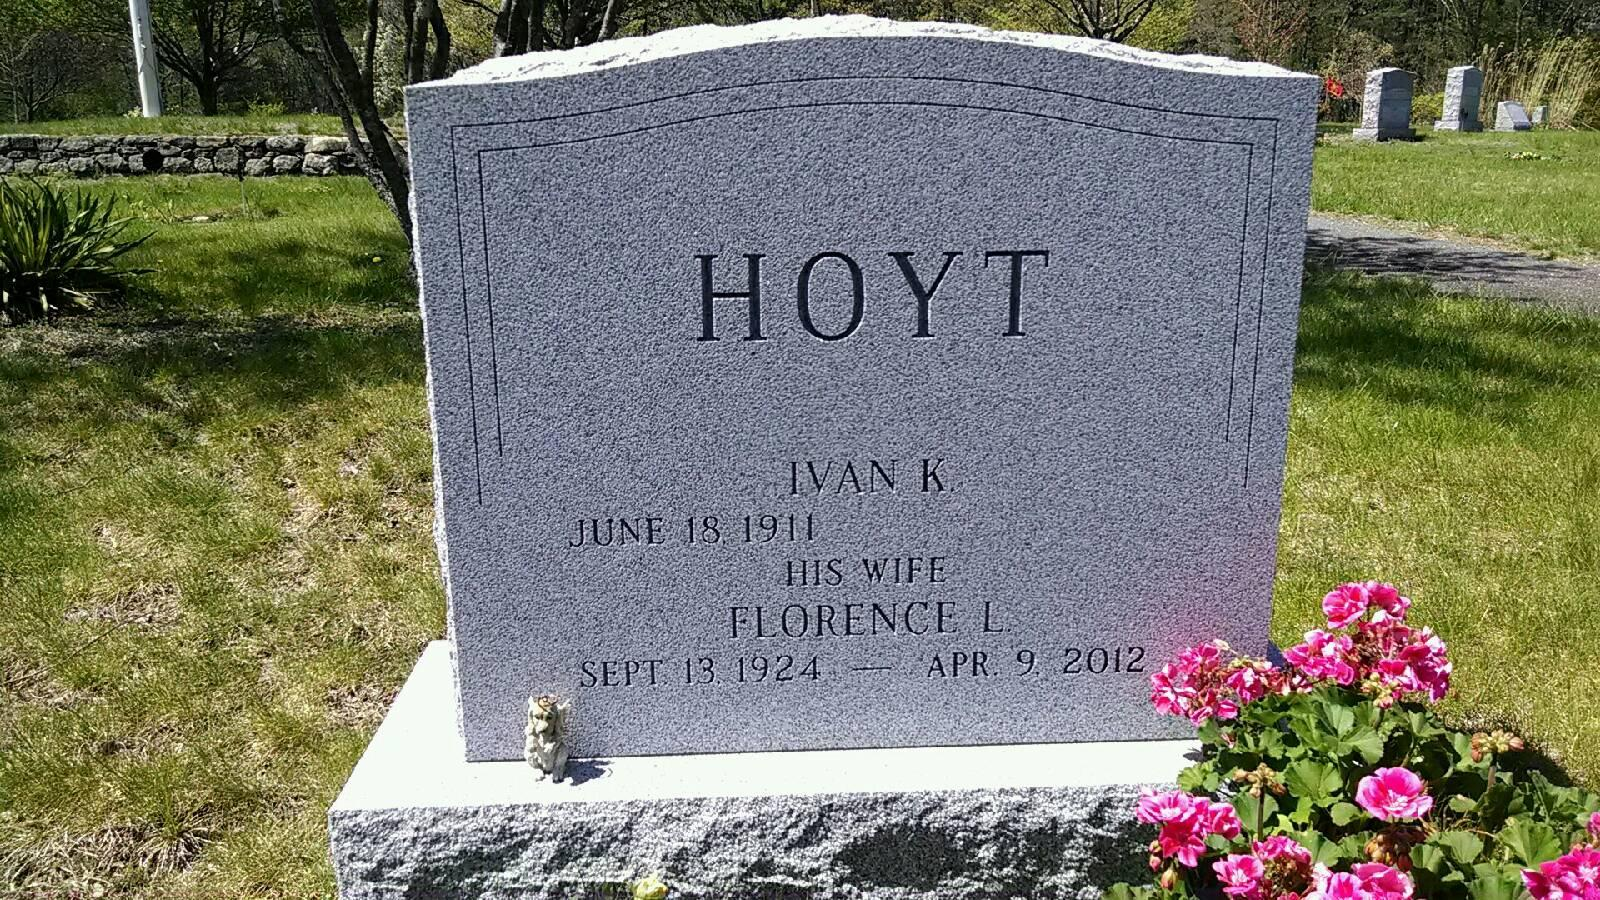upright: (297, 5, 1393, 898)
